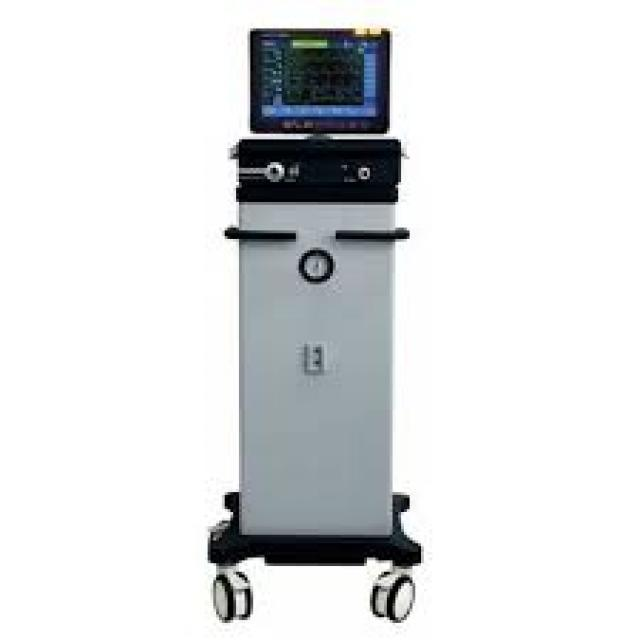ventilator: (183, 1, 540, 624)
